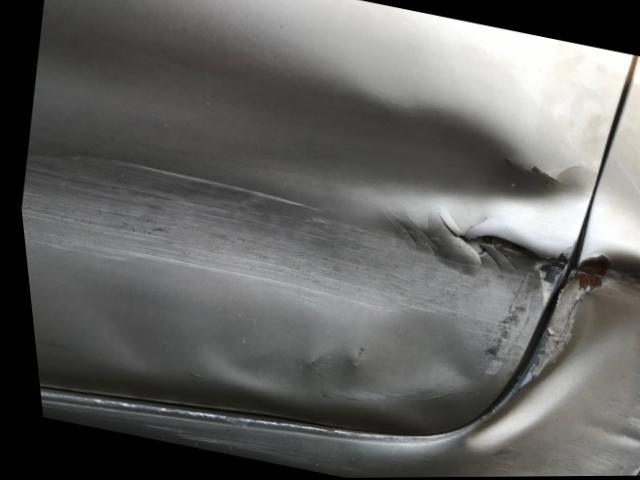dent: (66, 23, 584, 398), (453, 255, 640, 477)
scratch: (17, 153, 123, 263), (132, 419, 315, 465)
